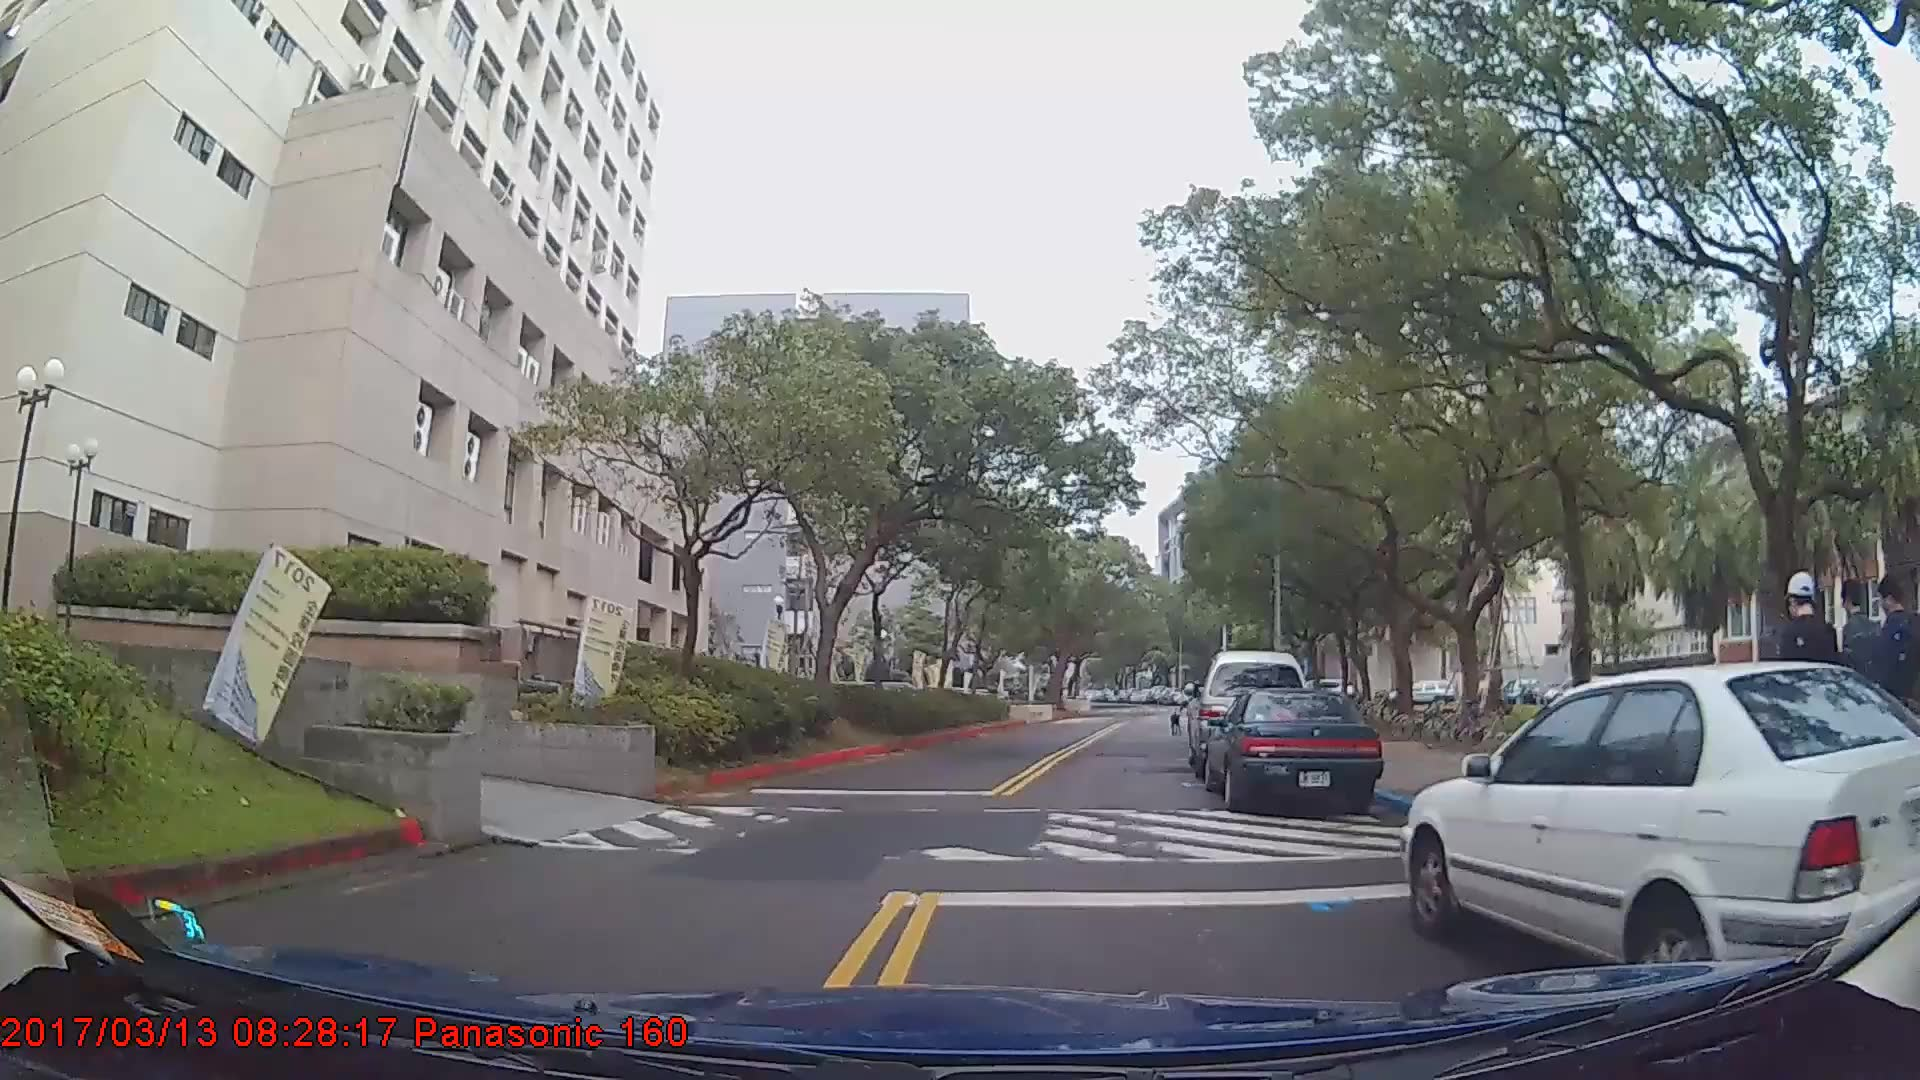pedestrian: (1775, 575, 1846, 835), (1854, 569, 1920, 817)
vehicle: (1401, 660, 1919, 1011), (1201, 688, 1383, 815)
